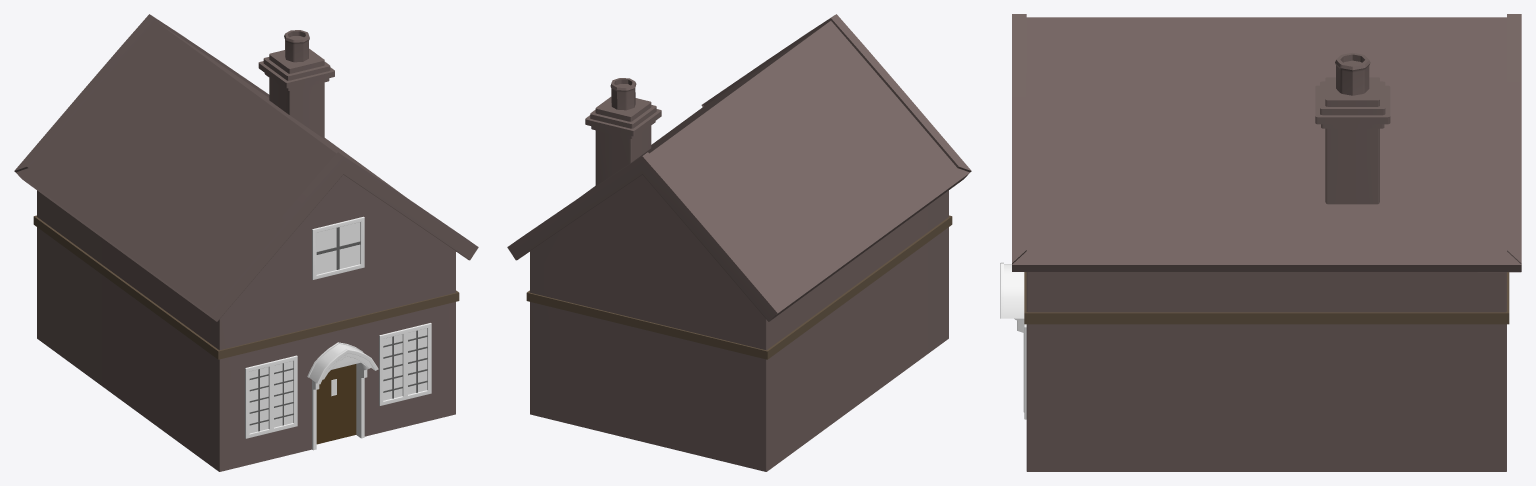
The model's file is Building_1.fbx.
3 views of the same model, side by side, from view 1: azimuth 30°, elevation 25°; view 2: azimuth 150°, elevation 25°; view 3: azimuth 270°, elevation 25° (orthographic). The views are drawn at different scales.
Visible parts, largest first — view 1: Main_Body, Chimney, Middle_Thing, D_Body, D_Canopy, BW1_Window_Fill, BW2_Window_Fill, TW_Window_Fill, BW2_Frame, BW1_Frame, TW_Frame; view 2: Main_Body, Chimney, Middle_Thing; view 3: Main_Body, Chimney, Middle_Thing, D_Canopy.
Part boxes in pixels (x1,y1,x2,y2): Main_Body: (14,14,478,471); Chimney: (258,30,334,138); Middle_Thing: (33,215,459,359); D_Body: (316,364,356,444); D_Canopy: (307,342,378,450); BW1_Window_Fill: (249,361,293,433); BW2_Window_Fill: (383,328,427,400); TW_Window_Fill: (316,222,360,274); BW2_Frame: (379,323,431,405); BW1_Frame: (245,355,297,438); TW_Frame: (312,216,364,279); Main_Body: (507,14,971,471); Chimney: (585,78,661,186); Middle_Thing: (526,215,952,359); Main_Body: (1012,14,1521,471); Chimney: (1315,52,1390,204); Middle_Thing: (1024,272,1509,324); D_Canopy: (1000,262,1024,412).
Bounding box in the file's own units: 6.85 × 7.18 × 8.71.
